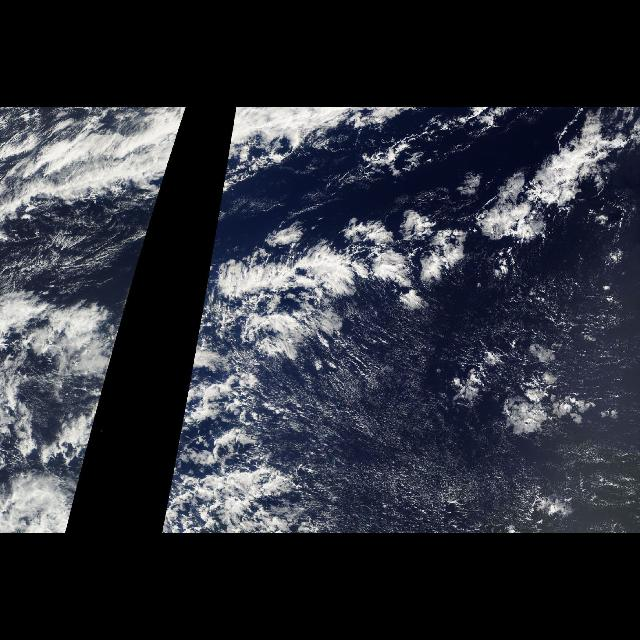Fish: (196, 119, 640, 358), (166, 134, 180, 174)
Sugar: (263, 332, 523, 532)
